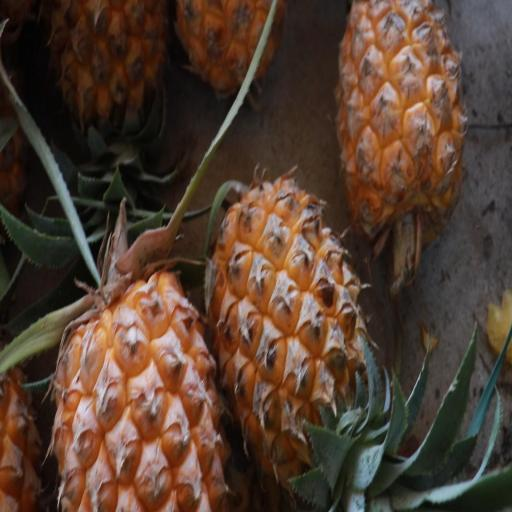Pineapple - v8 v1: (42, 175, 224, 512), (203, 174, 374, 506), (330, 1, 471, 241)
